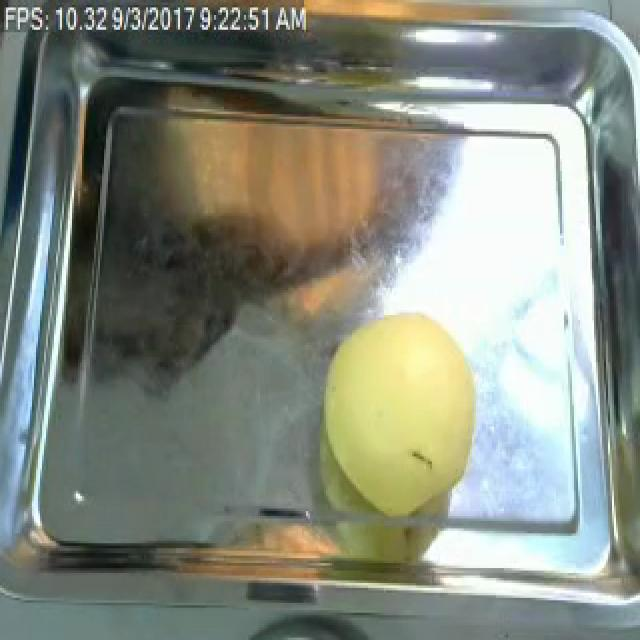Fruit: (308, 301, 488, 528)
